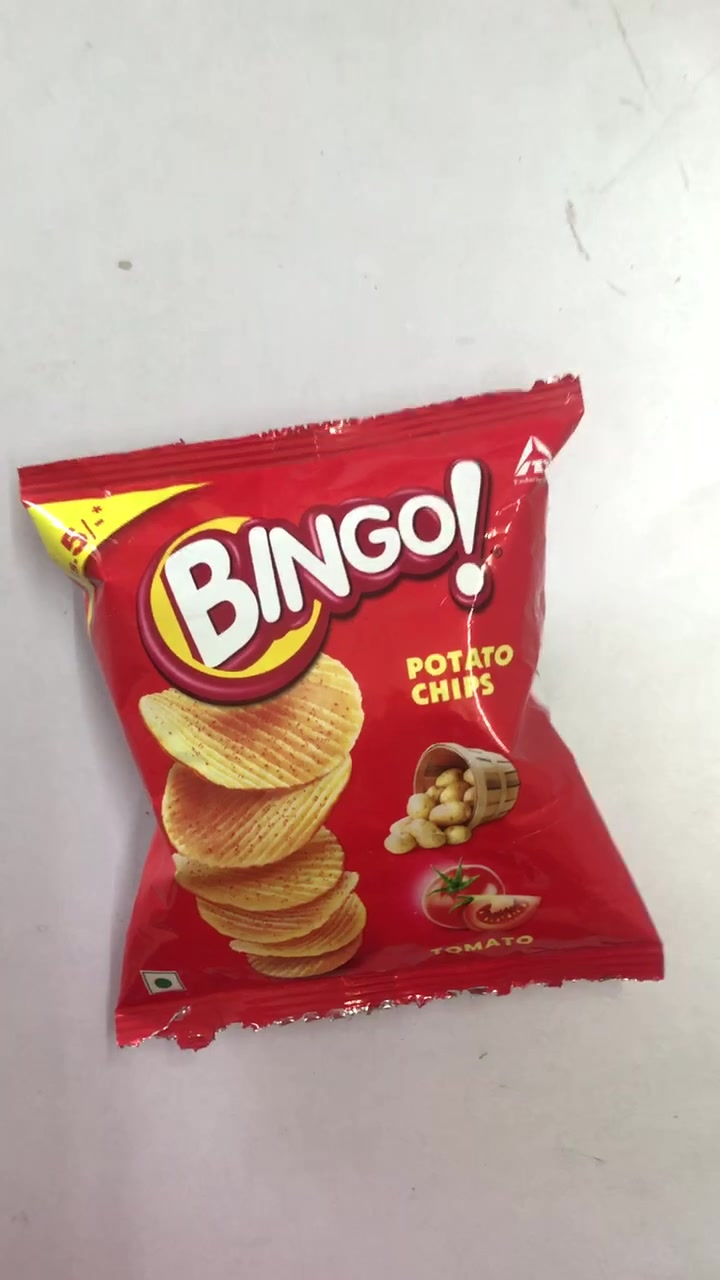Bingo: (28, 409, 652, 991)
